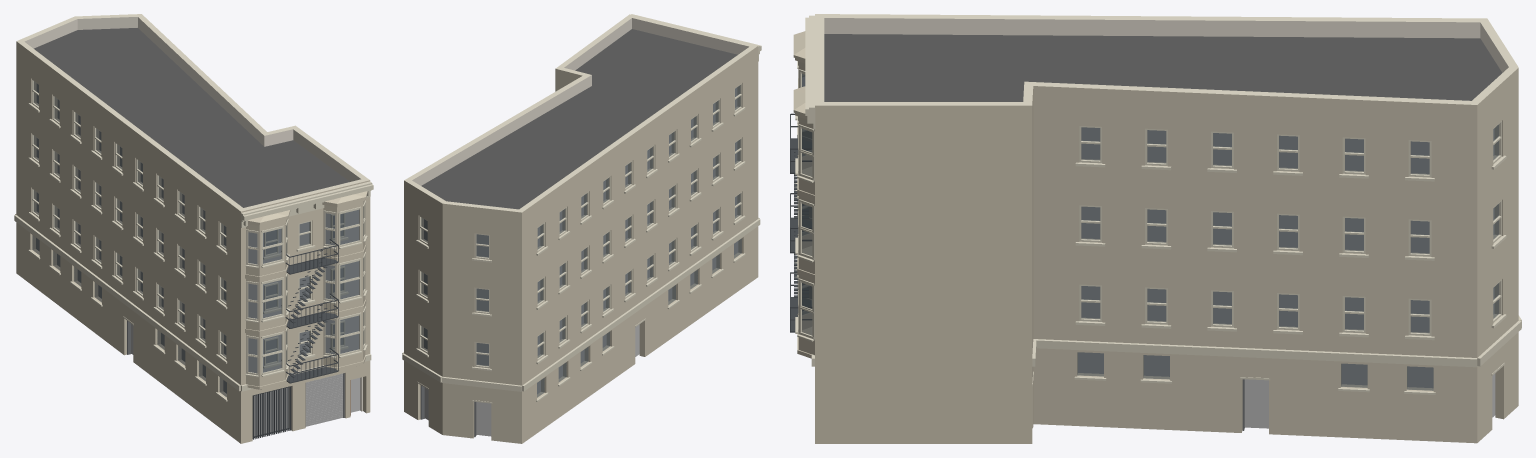
File: exterior.glb
3 renders of one model, left to right at view 1: azimuth 30°, elevation 25°; view 2: azimuth 150°, elevation 25°; view 3: azimuth 270°, elevation 25°, orthographic. The views are drawn at different scales.
Visible parts, largest first — view 1: shell, roof, bay-glazing-hyb, shadow-proxy, bay-windows-hyb, glazing, trim, frames, storefront, fire-escape; view 2: shell, roof, glazing, trim, frames, shadow-proxy, storefront; view 3: shell, roof, glazing, shadow-proxy, trim, frames, bay-glazing-hyb, bay-windows-hyb, fire-escape.
Boxes of the visible parts, box(x1,y1,x2,y2) form: shell: box(16, 14, 370, 443); roof: box(34, 28, 349, 207); bay-glazing-hyb: box(245, 200, 367, 377); shadow-proxy: box(36, 84, 360, 436); bay-windows-hyb: box(245, 191, 367, 389); glazing: box(32, 81, 342, 396); trim: box(14, 103, 373, 401); frames: box(31, 79, 344, 365); storefront: box(123, 316, 350, 439); fire-escape: box(281, 239, 338, 383); shell: box(404, 14, 758, 443); roof: box(421, 29, 737, 209); glazing: box(421, 85, 741, 397); trim: box(402, 14, 761, 401); frames: box(419, 83, 742, 368); shadow-proxy: box(424, 88, 737, 436); storefront: box(417, 318, 645, 437); shell: box(815, 14, 1518, 443); roof: box(824, 34, 1502, 101); glazing: box(1077, 124, 1498, 390); shadow-proxy: box(1078, 127, 1495, 428); trim: box(805, 15, 1521, 394); frames: box(1079, 121, 1501, 336); bay-glazing-hyb: box(795, 61, 814, 341); bay-windows-hyb: box(793, 31, 814, 358); fire-escape: box(790, 113, 811, 332).
Bounding box in the file's own units: 8.17 × 13.73 × 26.93.
